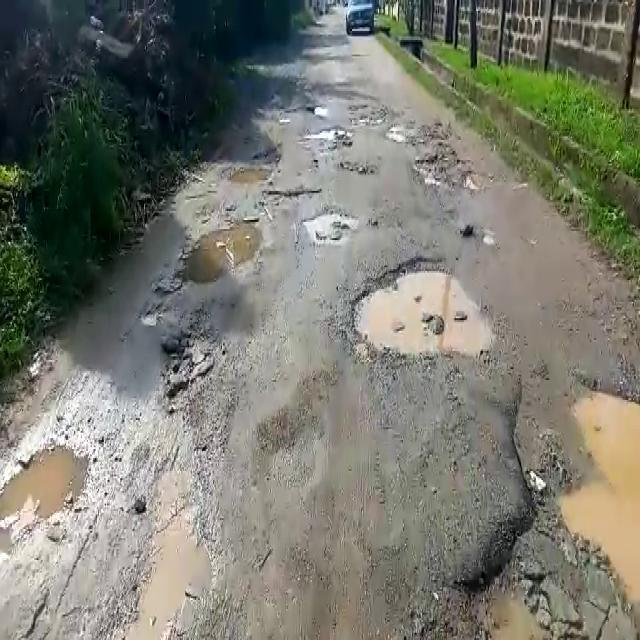pothole: (464, 359, 639, 636), (339, 251, 502, 363), (0, 436, 92, 531), (171, 219, 264, 292), (164, 329, 227, 415), (417, 143, 493, 192), (307, 209, 359, 244), (228, 158, 281, 188), (257, 185, 323, 200), (309, 124, 358, 144), (338, 158, 379, 176)
